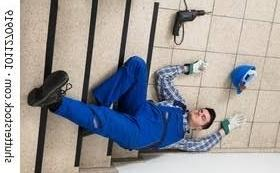fall: (50, 33, 228, 171)
